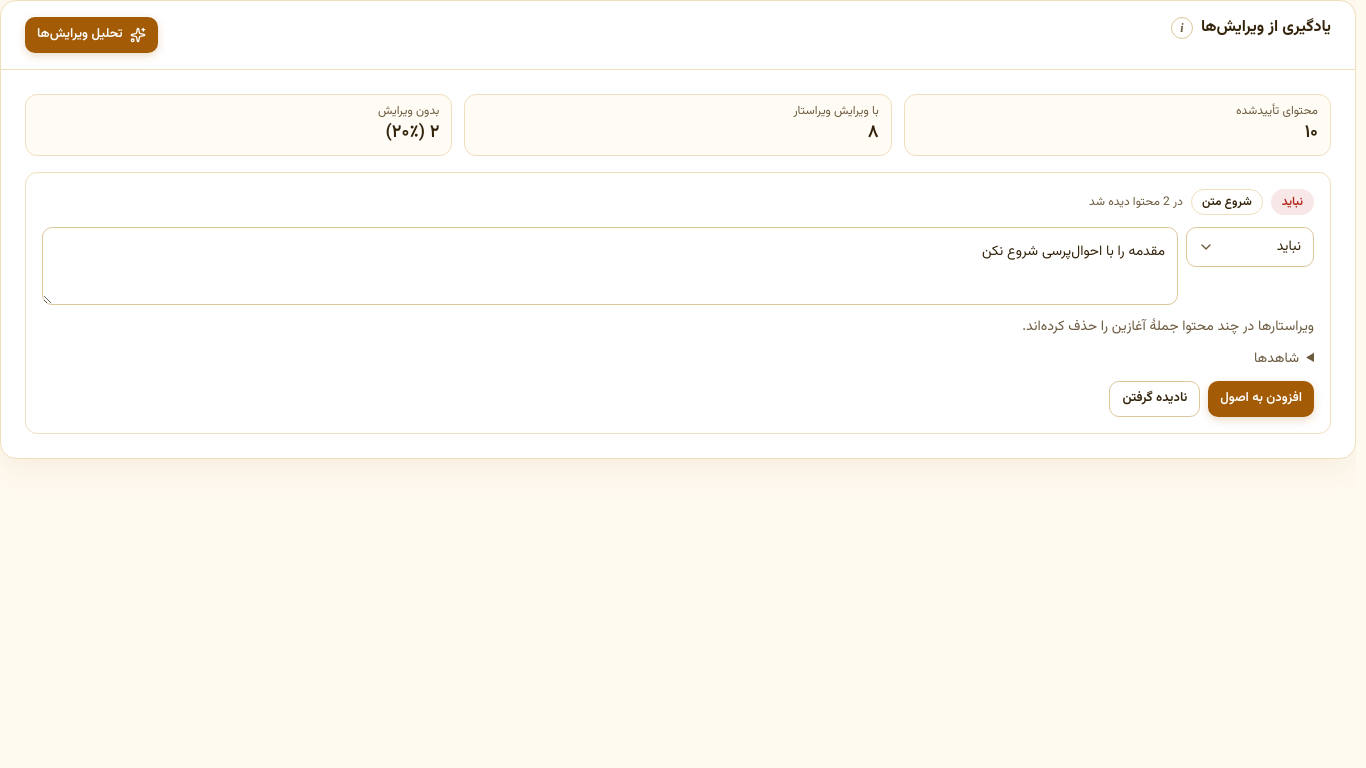
Test case: EditLearningPanel › shows a suggestion with its kind, category, rationale and evidence
The width and height of the screenshot is (1366, 768).
Expected: the text box showing "مقدمه را با احوال‌پرسی شروع نکن" is shown, [42,227,1178,305]
Expected: the text "شروع متن" is shown, [1191,189,1263,215]
Step 1. Click the heading "شاهدها" → (1277, 359), box [1254,348,1299,370]
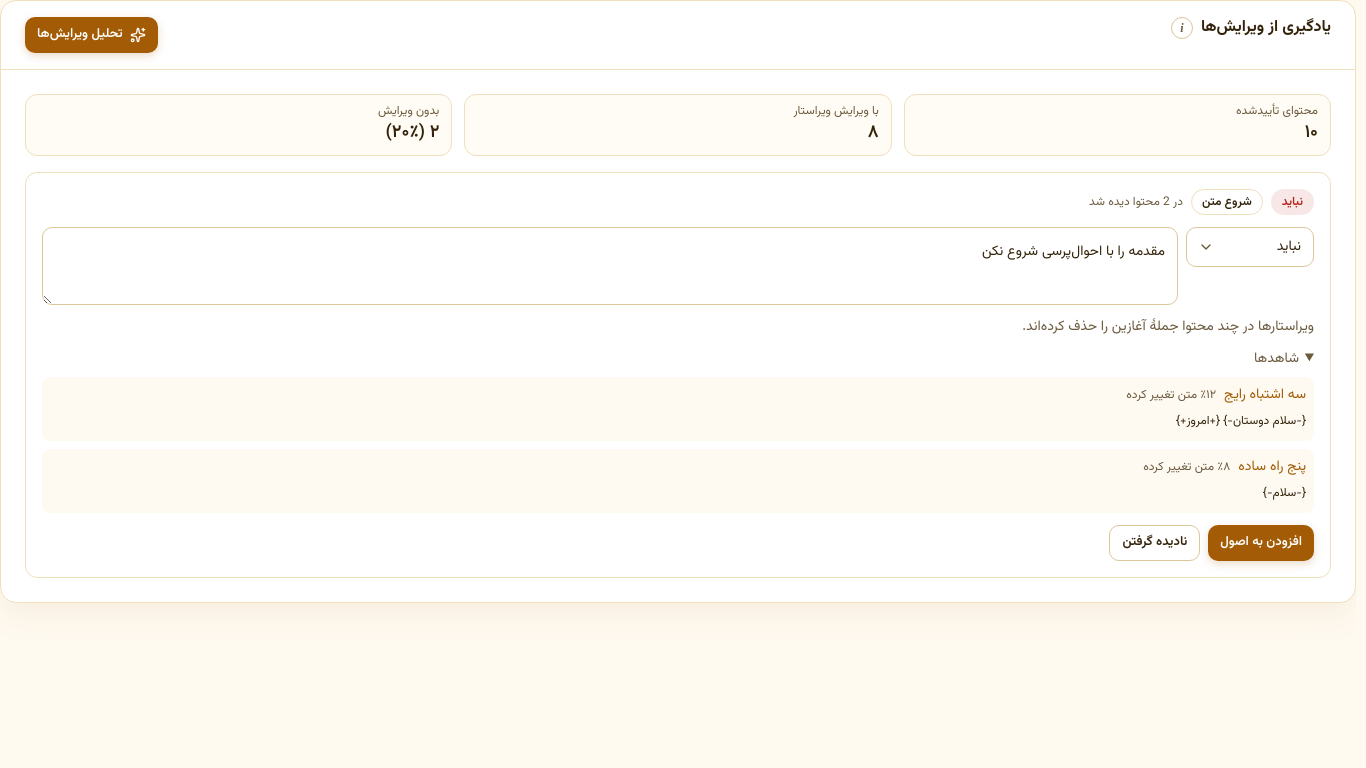
Expected: the text "{-سلام دوستان-} {+امروز+}" is shown, [1176,412,1306,430]
